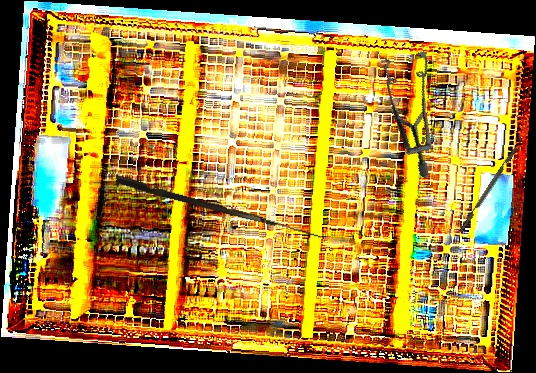Chopper: (453, 132, 527, 234)
Hook Surgical: (114, 175, 327, 239)
Speculum: (345, 37, 473, 179)
